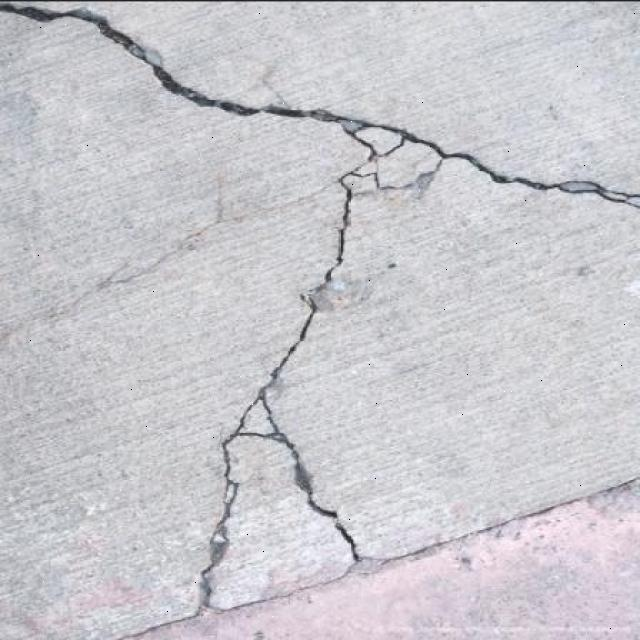Crack: (0, 4, 639, 609), (159, 210, 253, 260), (115, 612, 197, 639), (588, 472, 639, 494), (50, 291, 88, 316), (284, 185, 329, 206)
